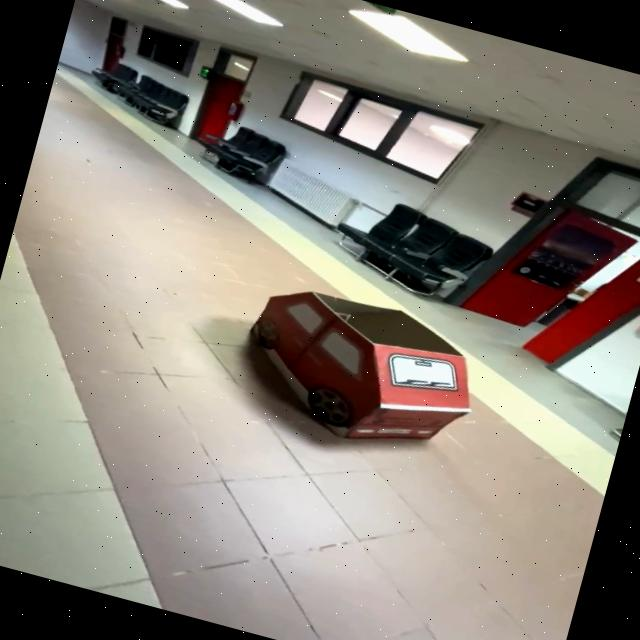red_car: (192, 248, 524, 498)
